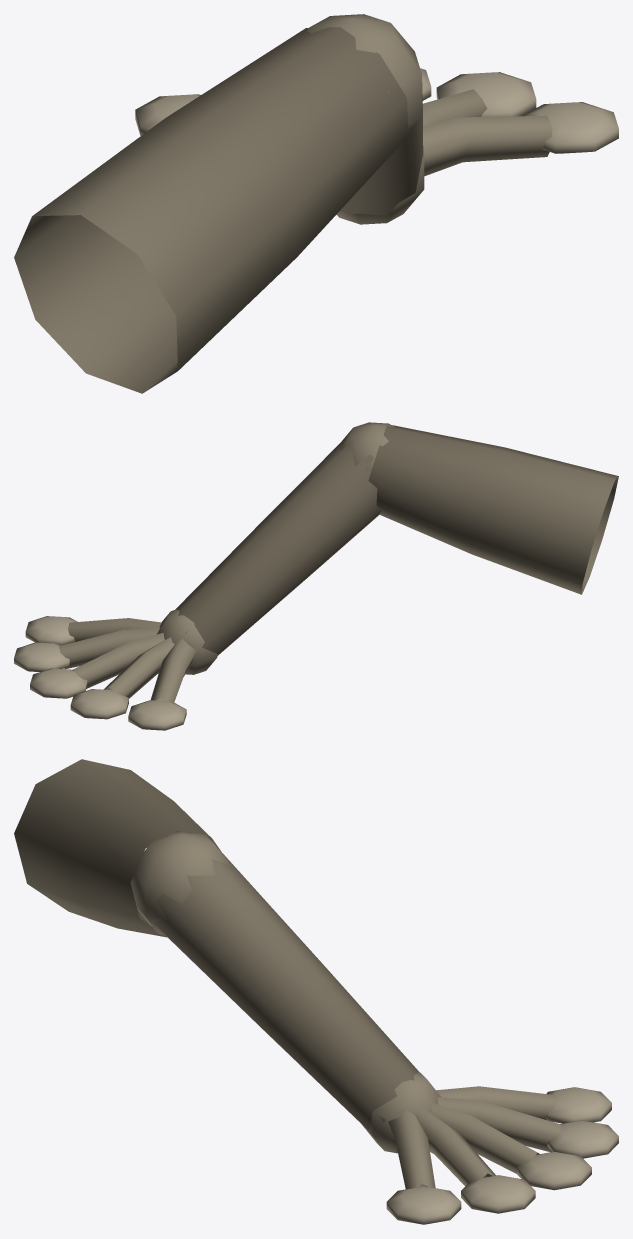
File: Yamori_Leg1.fbx
3 renders of one model, top to bottom at view 1: azimuth 30°, elevation 25°; view 2: azimuth 150°, elevation 25°; view 3: azimuth 270°, elevation 25°, orthographic. The views are drawn at different scales.
Visible parts, largest first — view 1: Yamori_Leg1; view 2: Yamori_Leg1; view 3: Yamori_Leg1.
Part boxes in pixels (x1,y1,x2,y2): Yamori_Leg1: (14, 14, 618, 393); Yamori_Leg1: (14, 422, 618, 730); Yamori_Leg1: (14, 759, 618, 1224).
Size of the model in its own units: 0.8348 by 0.36 by 0.7698.
